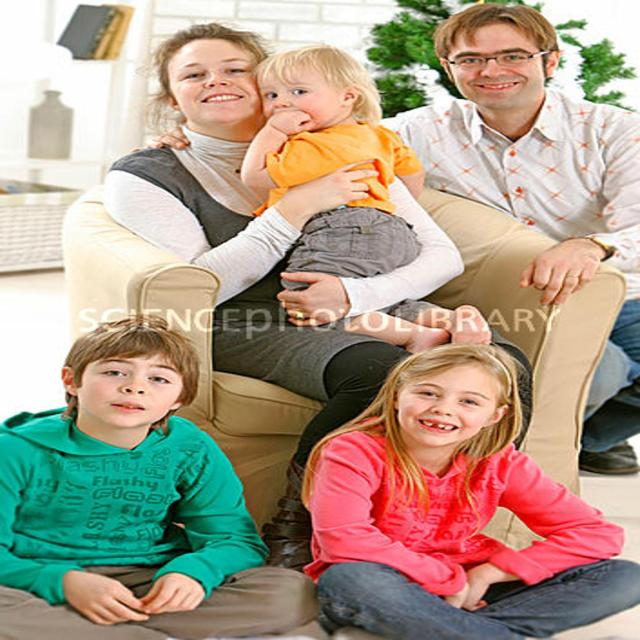Face: (56, 329, 209, 431), (429, 15, 559, 112), (145, 29, 272, 122), (395, 364, 509, 459), (245, 49, 359, 138)
